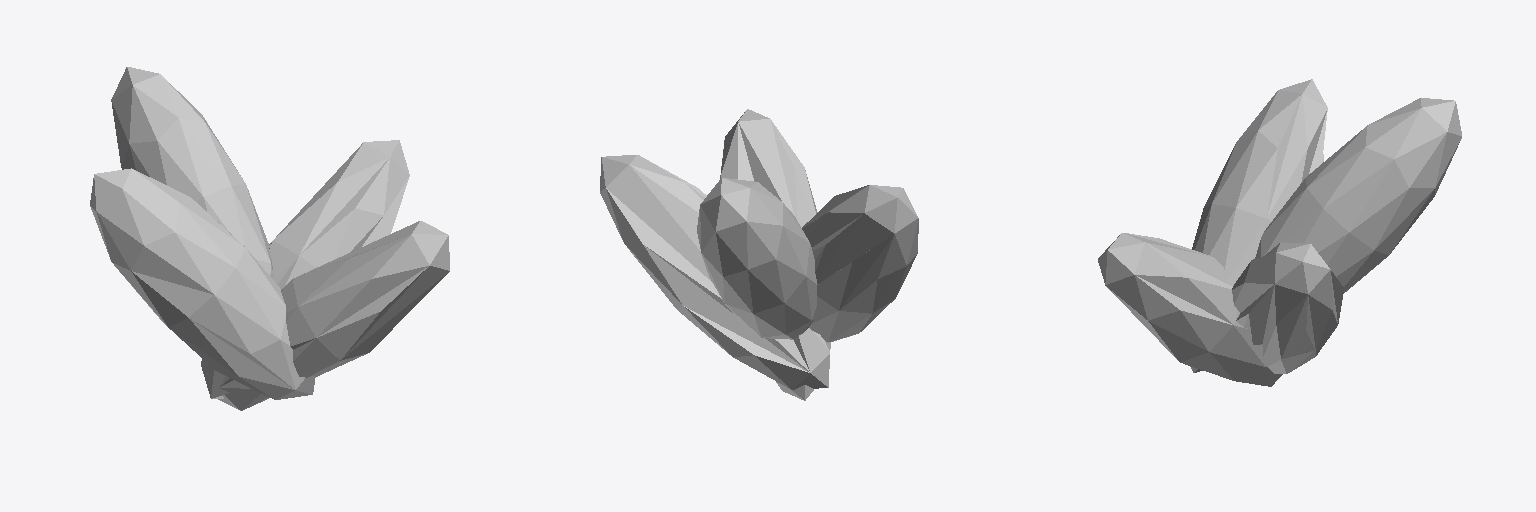
File: grass1.obj
The picture shows the model from 3 angles: view 1: azimuth 30°, elevation 25°; view 2: azimuth 150°, elevation 25°; view 3: azimuth 270°, elevation 25°; orthographic projection.
Visible parts, largest first — view 1: Icosphere.012; view 2: Icosphere.012; view 3: Icosphere.012.
Boxes of the visible parts, x1=… form: Icosphere.012: x1=90, y1=67, x2=449, y2=410; Icosphere.012: x1=600, y1=109, x2=918, y2=400; Icosphere.012: x1=1098, y1=79, x2=1461, y2=386.
Size of the model in its own units: 0.5418 by 0.4548 by 0.5524.